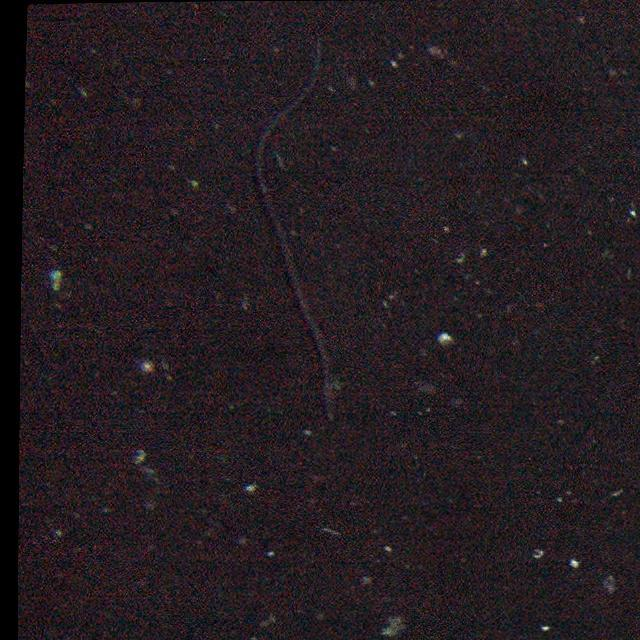eel: (250, 36, 368, 431)
